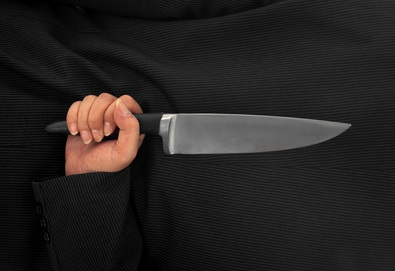knife: (67, 92, 357, 172)
